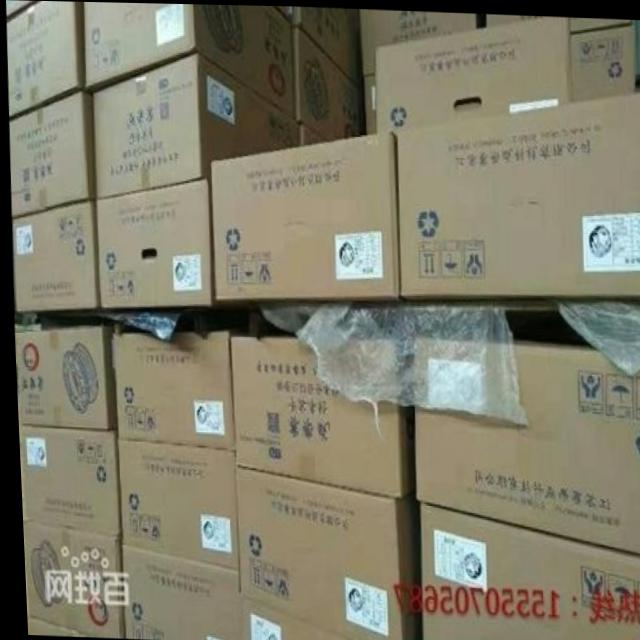box: (394, 88, 640, 300), (409, 339, 640, 551), (231, 463, 415, 640), (209, 129, 396, 300), (414, 500, 640, 640), (228, 336, 411, 499), (89, 54, 299, 195), (84, 1, 297, 119), (374, 14, 573, 130), (93, 177, 212, 308), (116, 440, 234, 569), (106, 330, 231, 447), (116, 544, 237, 640), (18, 425, 116, 537), (20, 524, 118, 635), (9, 89, 93, 216), (13, 329, 113, 431), (9, 199, 95, 314), (7, 1, 84, 121), (294, 18, 364, 137), (361, 7, 480, 77), (273, 5, 364, 74), (236, 592, 352, 640), (567, 20, 637, 96)
